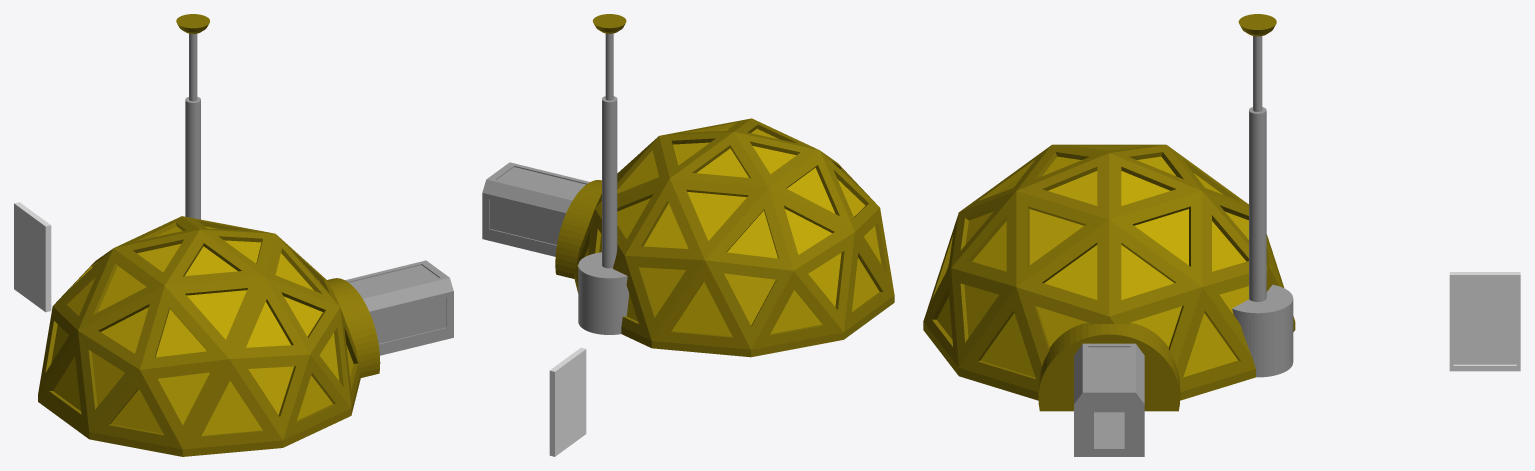
File: spaceDome.fbx
3 views of the same model, side by side, from view 1: azimuth 30°, elevation 25°; view 2: azimuth 150°, elevation 25°; view 3: azimuth 270°, elevation 25° (orthographic). The views are drawn at different scales.
Visible parts, largest first — view 1: SpaceIgloo, airlock, Cube; view 2: SpaceIgloo, airlock, Cube; view 3: SpaceIgloo, airlock, Cube.
Part boxes in pixels (<box>): SpaceIgloo: <box>38,14,380,456</box>; airlock: <box>345,260,453,355</box>; Cube: <box>14,202,51,312</box>; SpaceIgloo: <box>555,14,894,357</box>; airlock: <box>482,162,589,256</box>; Cube: <box>549,347,586,456</box>; SpaceIgloo: <box>923,14,1295,411</box>; airlock: <box>1074,343,1144,456</box>; Cube: <box>1449,272,1520,371</box>.
Bounding box in the file's own units: 1370 × 1184 × 1686.
